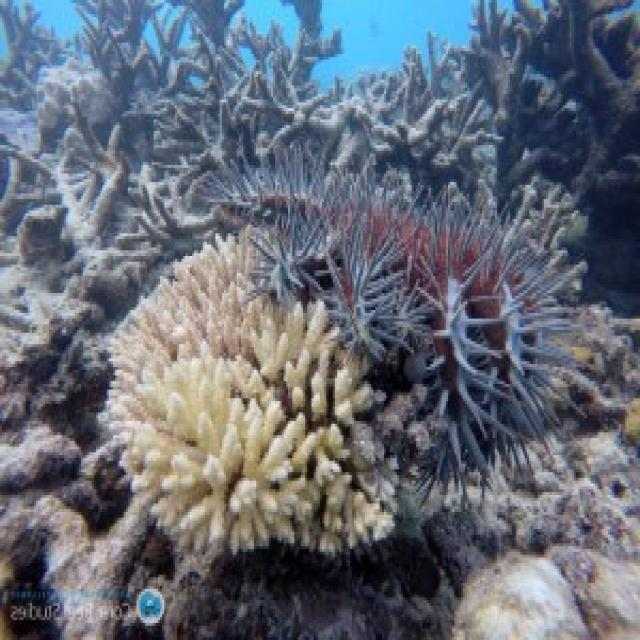Bleached: (102, 231, 386, 570)
Healthy: (1, 1, 640, 181), (388, 180, 591, 490)
